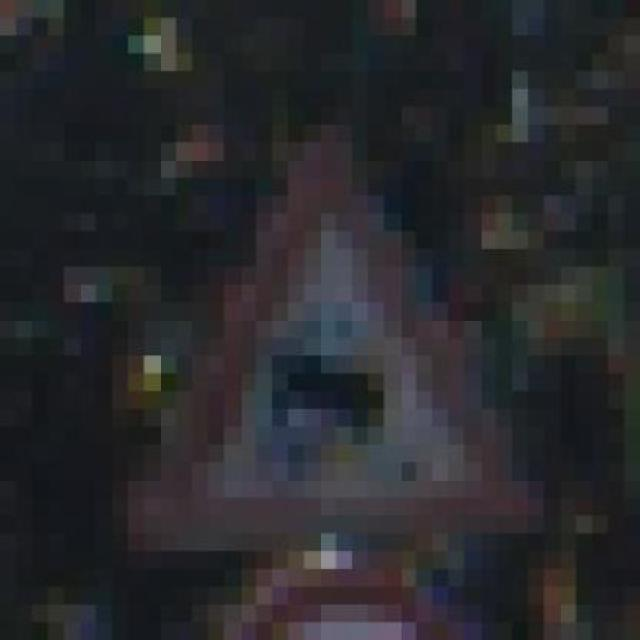Slippery Road Ahead: (111, 89, 528, 569)
